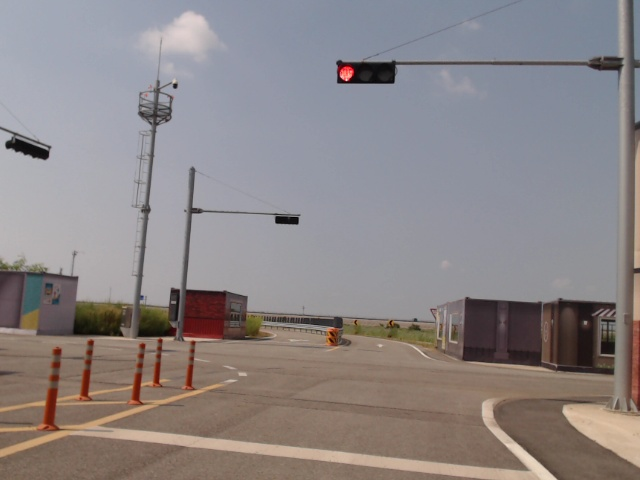red_3: (337, 62, 395, 84)
